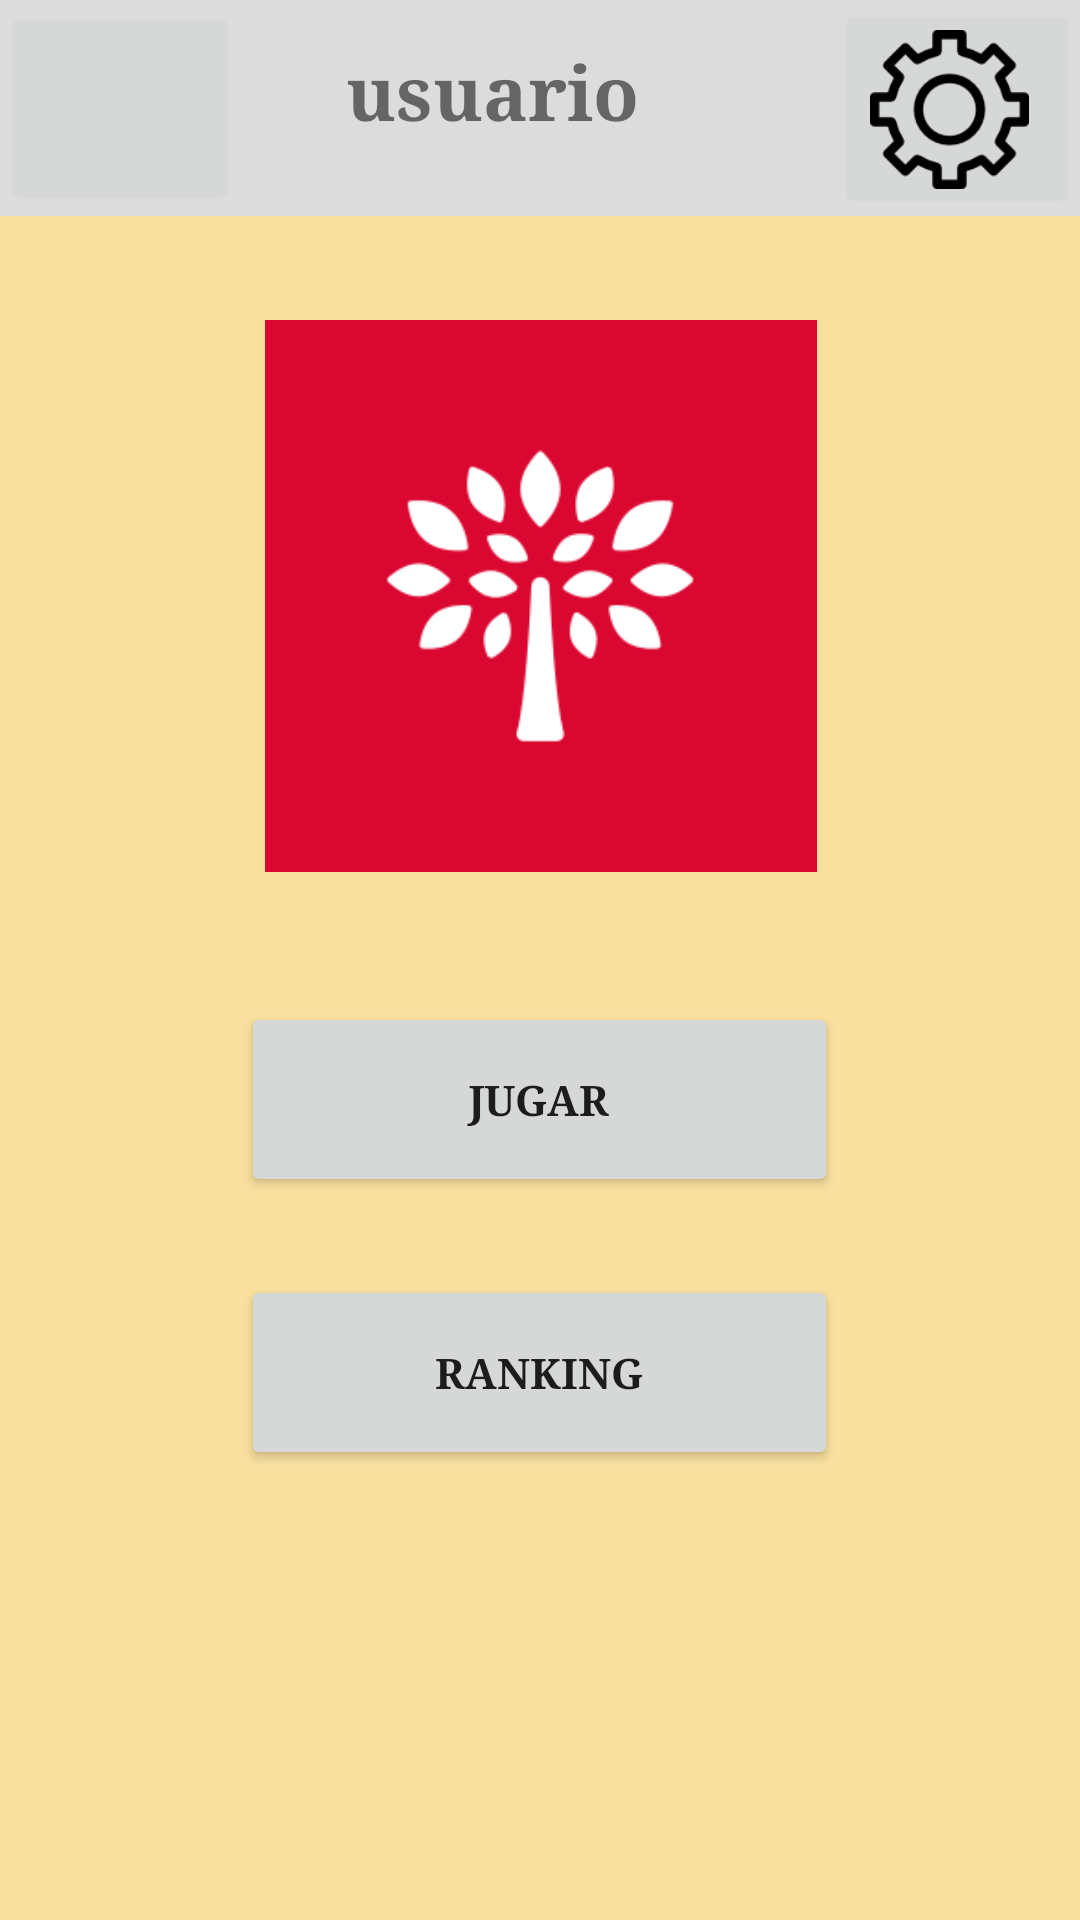

Named icons in this screenshot (1080x1920) and their centers, (x=x, y=y):
engranaje: (x=957, y=109)
